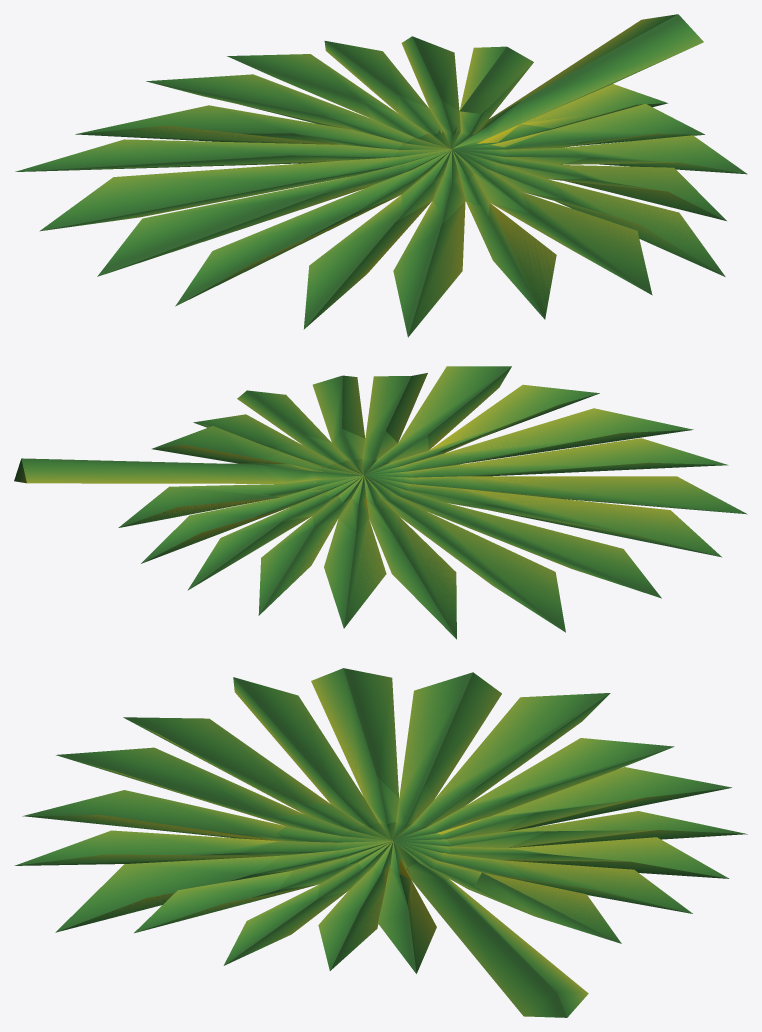
File: PalmLeaf.fbx
3 views of the same model, one above another, from view 1: azimuth 30°, elevation 25°; view 2: azimuth 150°, elevation 25°; view 3: azimuth 270°, elevation 25° (orthographic). The views are drawn at different scales.
Visible parts, largest first — view 1: Palm leaf; view 2: Palm leaf; view 3: Palm leaf.
Boxes of the visible parts, bbox=[...] form: Palm leaf: bbox=[15, 14, 747, 337]; Palm leaf: bbox=[14, 366, 747, 639]; Palm leaf: bbox=[14, 668, 747, 1017].
Size of the model in its own units: 113 by 6.99 by 100.
